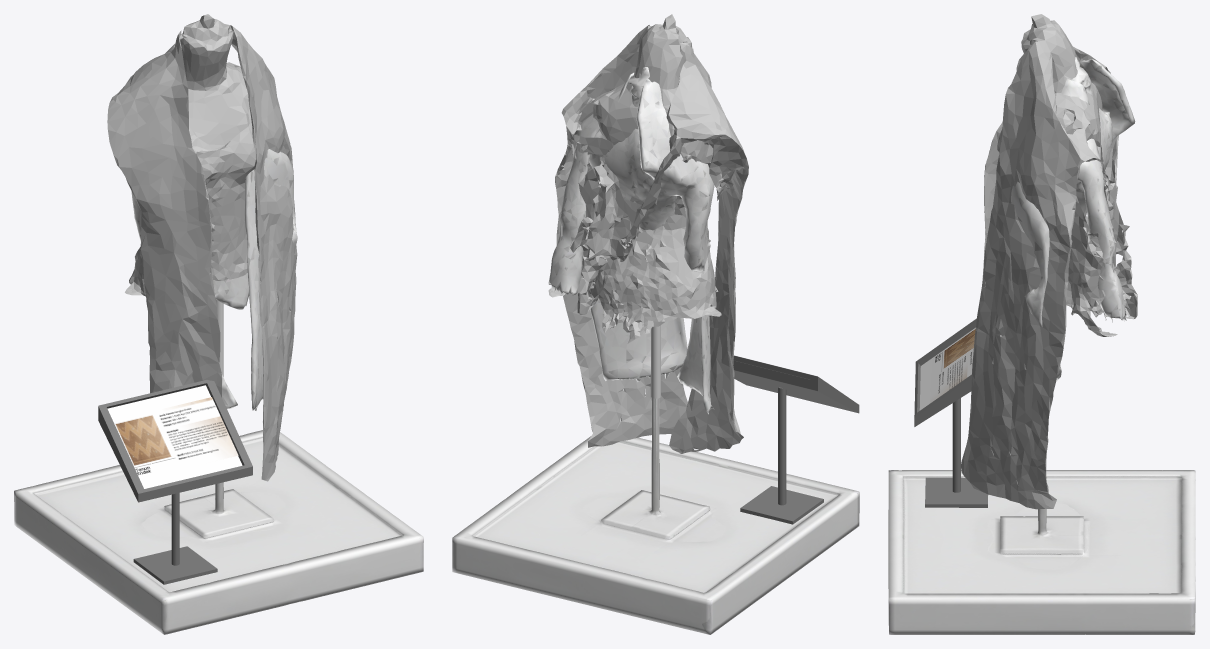
Rendered from ENDEK.fbx.
The picture shows the model from 3 angles, left to right: view 1: azimuth 30°, elevation 25°; view 2: azimuth 150°, elevation 25°; view 3: azimuth 270°, elevation 25°; orthographic projection. The views are drawn at different scales.
Parts seen in each view (by area): view 1: temp, Mesh_0, Cube.090, Plane, Mesh_0.001; view 2: Mesh_0, temp, Mesh_0.001, Cube.090, Cylinder; view 3: Mesh_0, temp, Mesh_0.001, Cube.090, Plane.
Boxes of the visible parts, box(x1,y1,x2,y2) form: temp: box(107, 14, 297, 481); Mesh_0: box(14, 430, 423, 634); Cube.090: box(98, 380, 252, 584); Plane: box(113, 397, 238, 478); Mesh_0.001: box(131, 44, 297, 410); Mesh_0: box(452, 398, 859, 634); temp: box(548, 14, 748, 453); Mesh_0.001: box(548, 67, 714, 414); Cube.090: box(733, 355, 859, 524); Cylinder: box(651, 325, 660, 398); Mesh_0: box(888, 467, 1195, 634); temp: box(960, 14, 1137, 509); Mesh_0.001: box(999, 57, 1135, 381); Cube.090: box(914, 318, 988, 507); Plane: box(930, 327, 975, 403).
Bounding box in the file's own units: 164 × 308 × 156.
